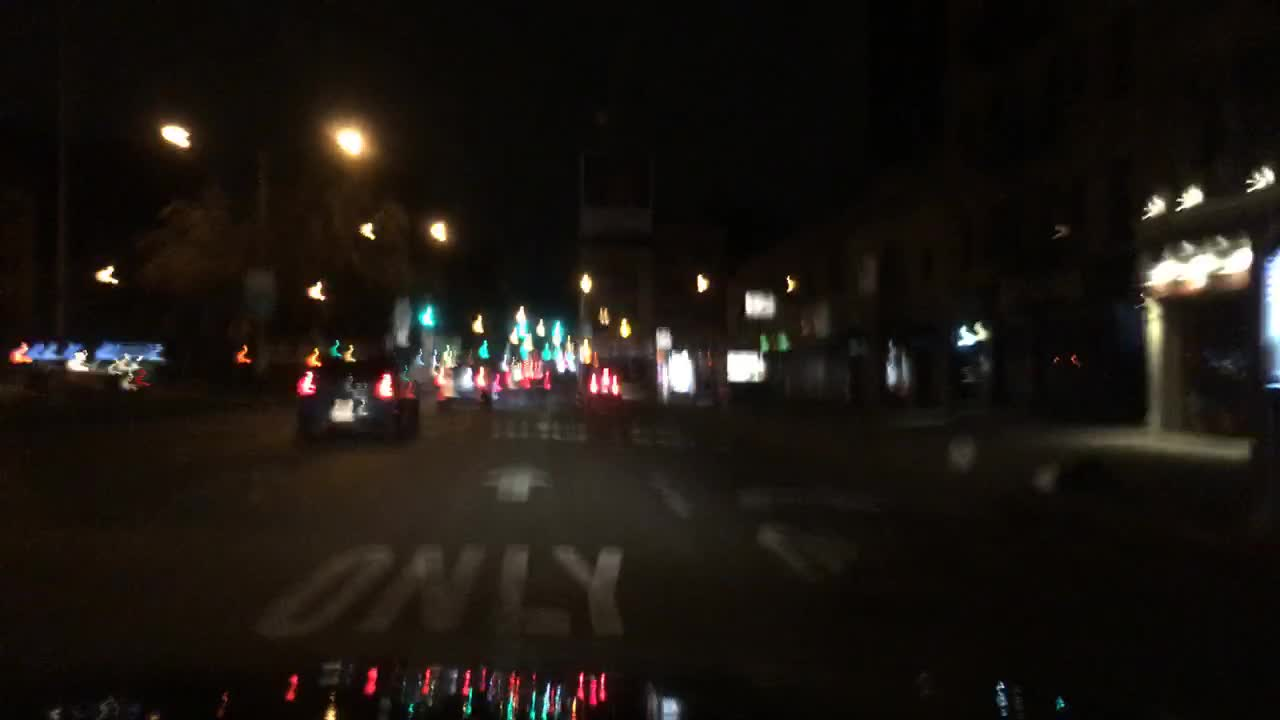car: (296, 351, 416, 436), (434, 355, 495, 404), (516, 361, 550, 391)
traffic light: (419, 306, 432, 326), (551, 321, 561, 346), (476, 338, 487, 359)
